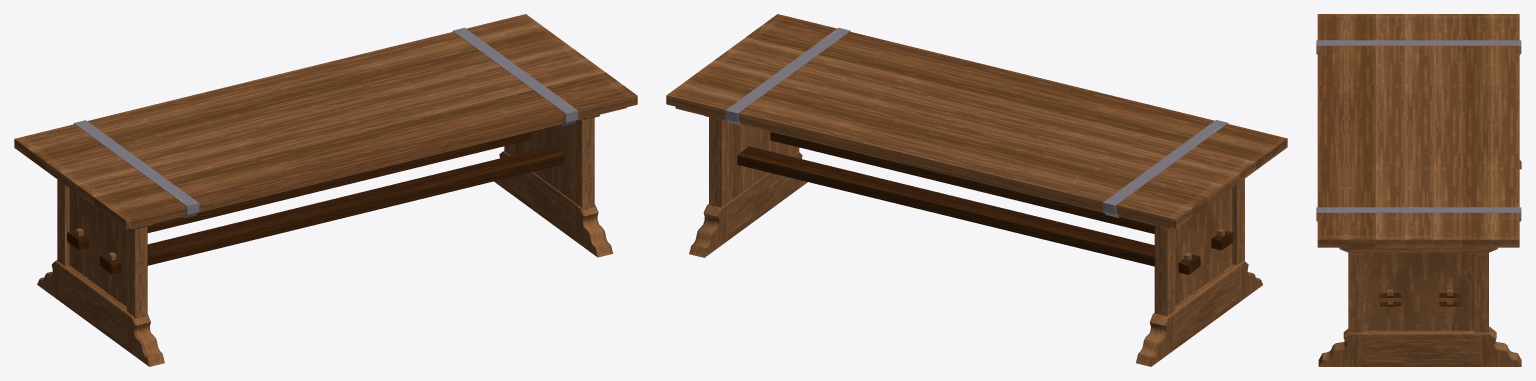
The model's file is Table_Large.glb.
The picture shows the model from 3 angles, left to right: view 1: azimuth 30°, elevation 25°; view 2: azimuth 150°, elevation 25°; view 3: azimuth 270°, elevation 25°; orthographic projection. The views are drawn at different scales.
Parts seen in each view (by area): view 1: Table_Large; view 2: Table_Large; view 3: Table_Large.
Part boxes in pixels (x1,y1,x2,y2): Table_Large: [14, 14, 637, 366]; Table_Large: [666, 14, 1287, 366]; Table_Large: [1316, 14, 1521, 366].
Size of the model in its own units: 2.85 by 0.8134 by 1.1.
2 materials, 2 textured.
